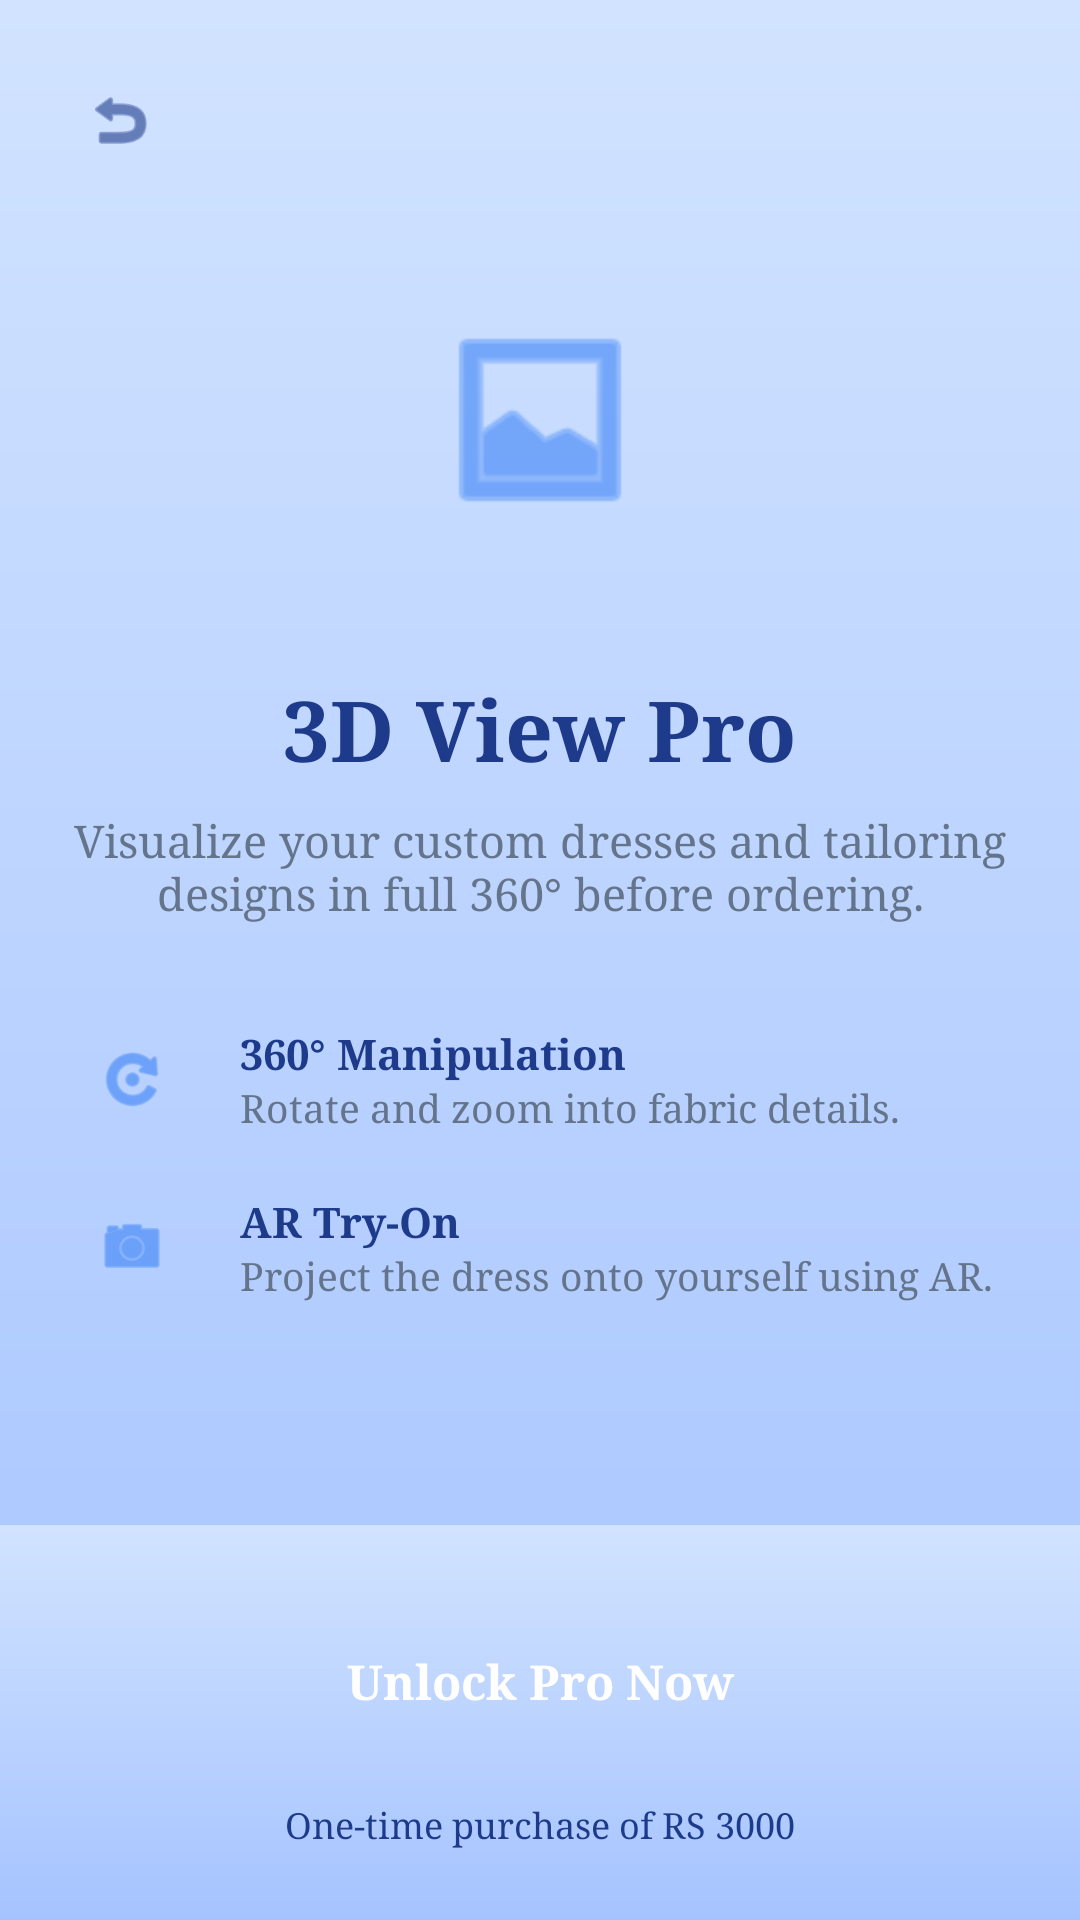

Icons on this 1080 × 1920 Android screen, each with the point to tap as (x,y):
camera: (132,1246)
gallery: (540,420)
revert: (121,120)
